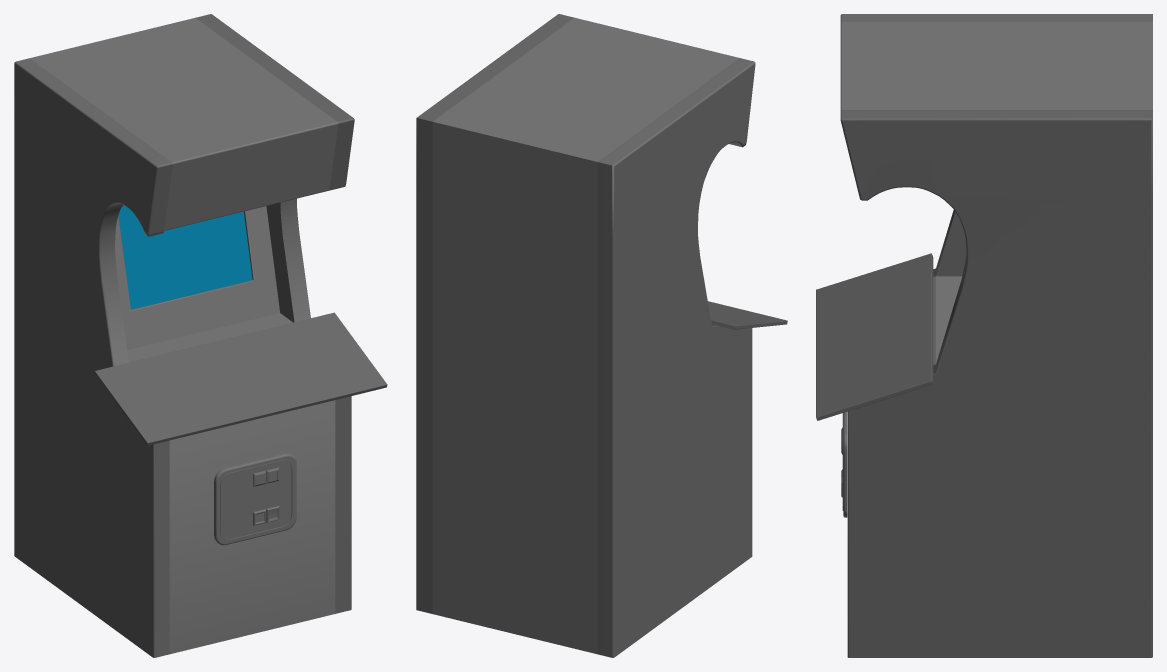
Rendered from ArcadeMachine1.fbx.
3 views of the same model, side by side, from view 1: azimuth 30°, elevation 25°; view 2: azimuth 150°, elevation 25°; view 3: azimuth 270°, elevation 25° (orthographic). The views are drawn at different scales.
Parts seen in each view (by area): view 1: polySurface9, polySurface7, ArcadeMachine_0006:polySurface5, polySurface11, ArcadeMachine_0006:pCube2; view 2: polySurface9, polySurface7, polySurface11, ArcadeMachine_0006:polySurface5; view 3: polySurface11, polySurface9, ArcadeMachine_0006:polySurface5, polySurface7, ArcadeMachine_0006:pCube2.
Boxes of the visible parts, x1=… form: polySurface9: x1=30, y1=18, x2=338, y2=654; polySurface7: x1=14, y1=58, x2=172, y2=657; ArcadeMachine_0006:polySurface5: x1=94, y1=312, x2=387, y2=445; polySurface11: x1=195, y1=14, x2=354, y2=613; ArcadeMachine_0006:pCube2: x1=214, y1=453, x2=296, y2=545; polySurface9: x1=432, y1=18, x2=739, y2=654; polySurface7: x1=597, y1=58, x2=755, y2=657; polySurface11: x1=416, y1=14, x2=574, y2=613; ArcadeMachine_0006:polySurface5: x1=708, y1=301, x2=787, y2=329; polySurface11: x1=840, y1=110, x2=1152, y2=657; polySurface9: x1=840, y1=22, x2=1152, y2=364; ArcadeMachine_0006:polySurface5: x1=816, y1=253, x2=933, y2=420; polySurface7: x1=840, y1=14, x2=1152, y2=276; ArcadeMachine_0006:pCube2: x1=841, y1=412, x2=847, y2=517.
Bounding box in the file's own units: 3.06 × 6.02 × 3.41.
